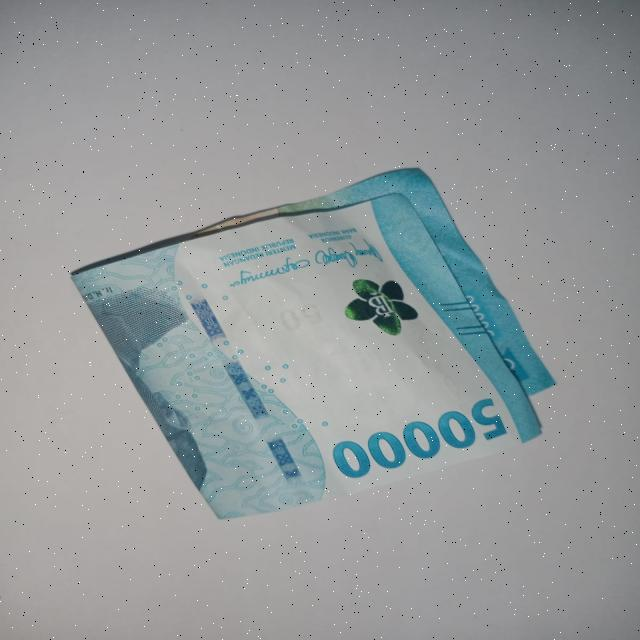50K: (48, 157, 568, 533)
